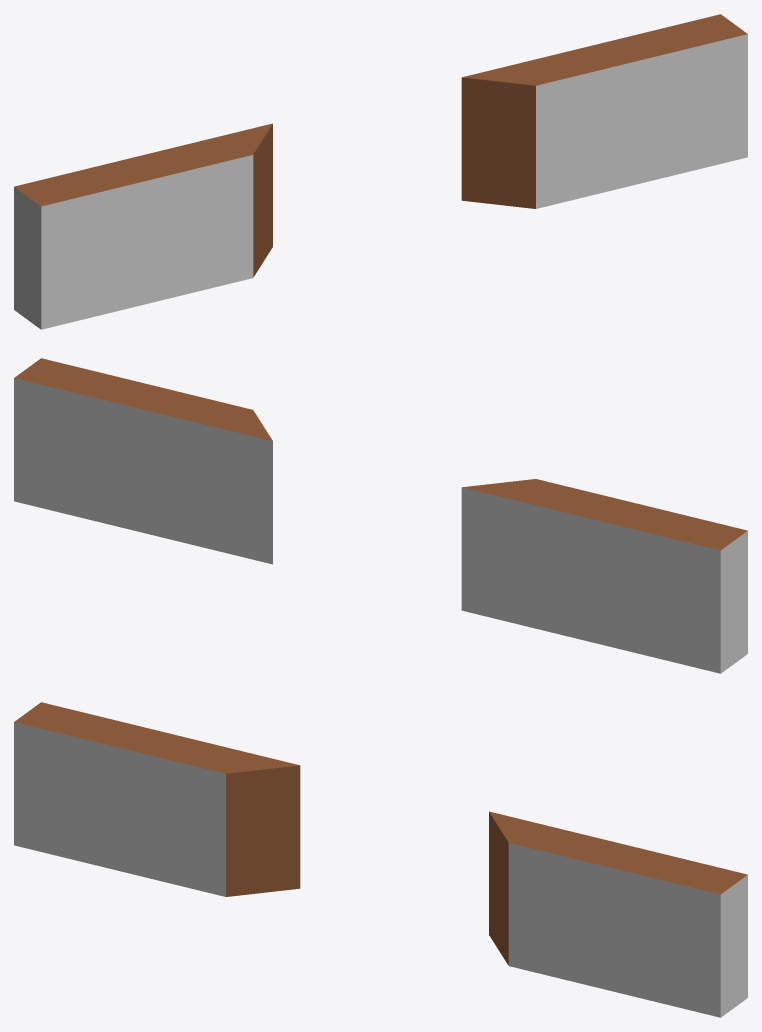
File: wallSegmented.fbx
3 renders of one model, top to bottom at view 1: azimuth 30°, elevation 25°; view 2: azimuth 150°, elevation 25°; view 3: azimuth 330°, elevation 25°, orthographic.
Visible parts, largest first — view 1: normalBL, angledBL, normalBR, angledBR, angledTL, normalTL, angledTR, normanTR; view 2: angledTR, angledTL, normalTL, normanTR, normalBL, normalBR, angledBR, angledBL; view 3: normalBR, angledBR, normalBL, angledBL, angledTR, normanTR, angledTL, normalTL.
Boxes of the visible parts, left/top/right/bottom form: normalBL: left=27, top=168, right=158, bottom=329; angledBL: left=498, top=53, right=630, bottom=208; normalBR: left=617, top=24, right=747, bottom=185; angledBR: left=145, top=139, right=263, bottom=300; angledTL: left=461, top=43, right=616, bottom=204; normalTL: left=14, top=158, right=144, bottom=319; angledTR: left=132, top=123, right=272, bottom=261; normanTR: left=603, top=14, right=733, bottom=52; angledTR: left=461, top=483, right=616, bottom=644; angledTL: left=131, top=397, right=272, bottom=564; normalTL: left=603, top=512, right=734, bottom=673; normanTR: left=14, top=368, right=144, bottom=529; normalBL: left=617, top=502, right=747, bottom=663; normalBR: left=28, top=358, right=158, bottom=396; angledBR: left=499, top=479, right=629, bottom=511; angledBL: left=145, top=387, right=262, bottom=425; normalBR: left=603, top=856, right=734, bottom=1017; angledBR: left=131, top=741, right=263, bottom=896; normalBL: left=14, top=712, right=144, bottom=873; angledBL: left=498, top=827, right=616, bottom=988; angledTR: left=145, top=731, right=300, bottom=892; normanTR: left=617, top=846, right=747, bottom=1007; angledTL: left=489, top=811, right=629, bottom=949; normalTL: left=28, top=702, right=158, bottom=740.
Bounding box in the file's own units: 300 × 50 × 20.
